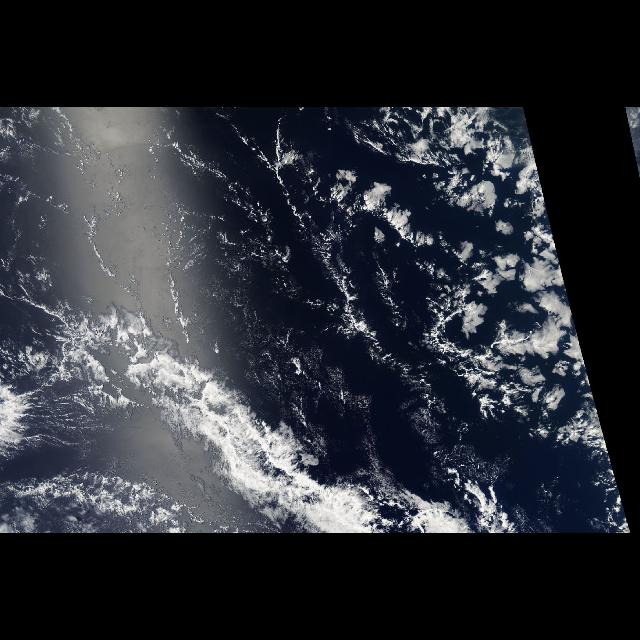Fish: (38, 293, 466, 533)
Flower: (367, 114, 558, 418)
Sugar: (7, 109, 225, 281)
